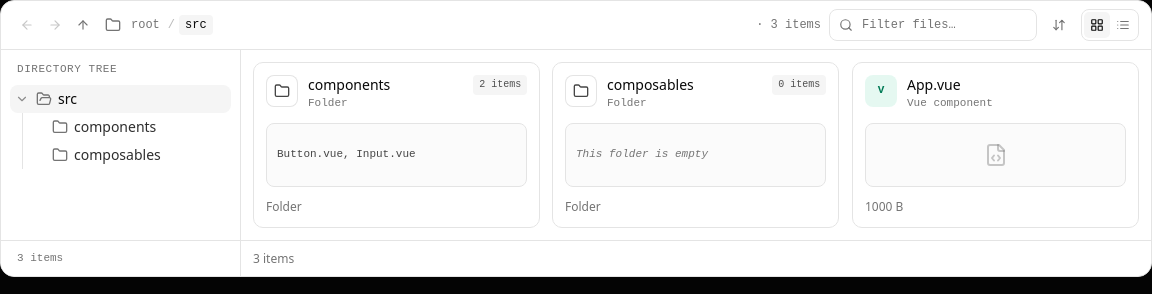
Test: FileManager: browsing › filters the open folder by name
The width and height of the screenshot is (1152, 294).
Type "app" into the search field with placeholder "Filter files…".
click(933, 25); type("app")  # box [829,9,1037,41]
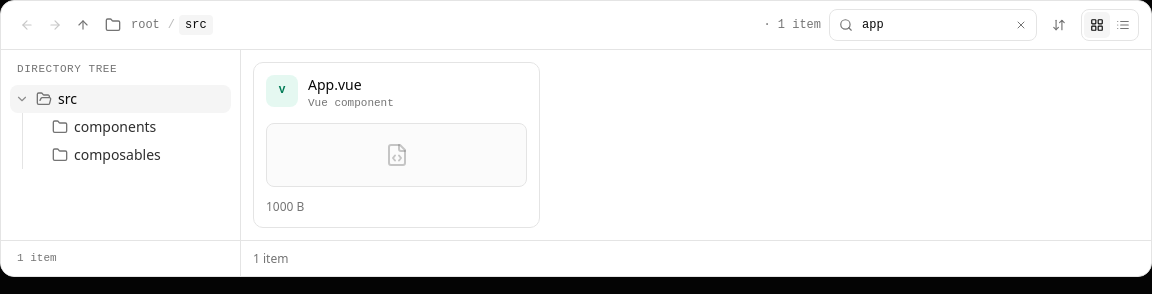
Replace the text in the search field named "Filter files…" with "zzz" at (933, 25), box [829,9,1037,41]
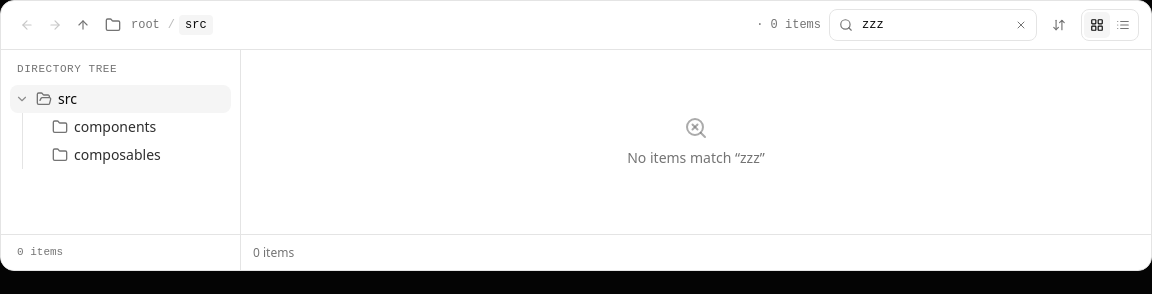
Now the element showing "No items match “zzz”" is shown, box [627,116,765,167]
